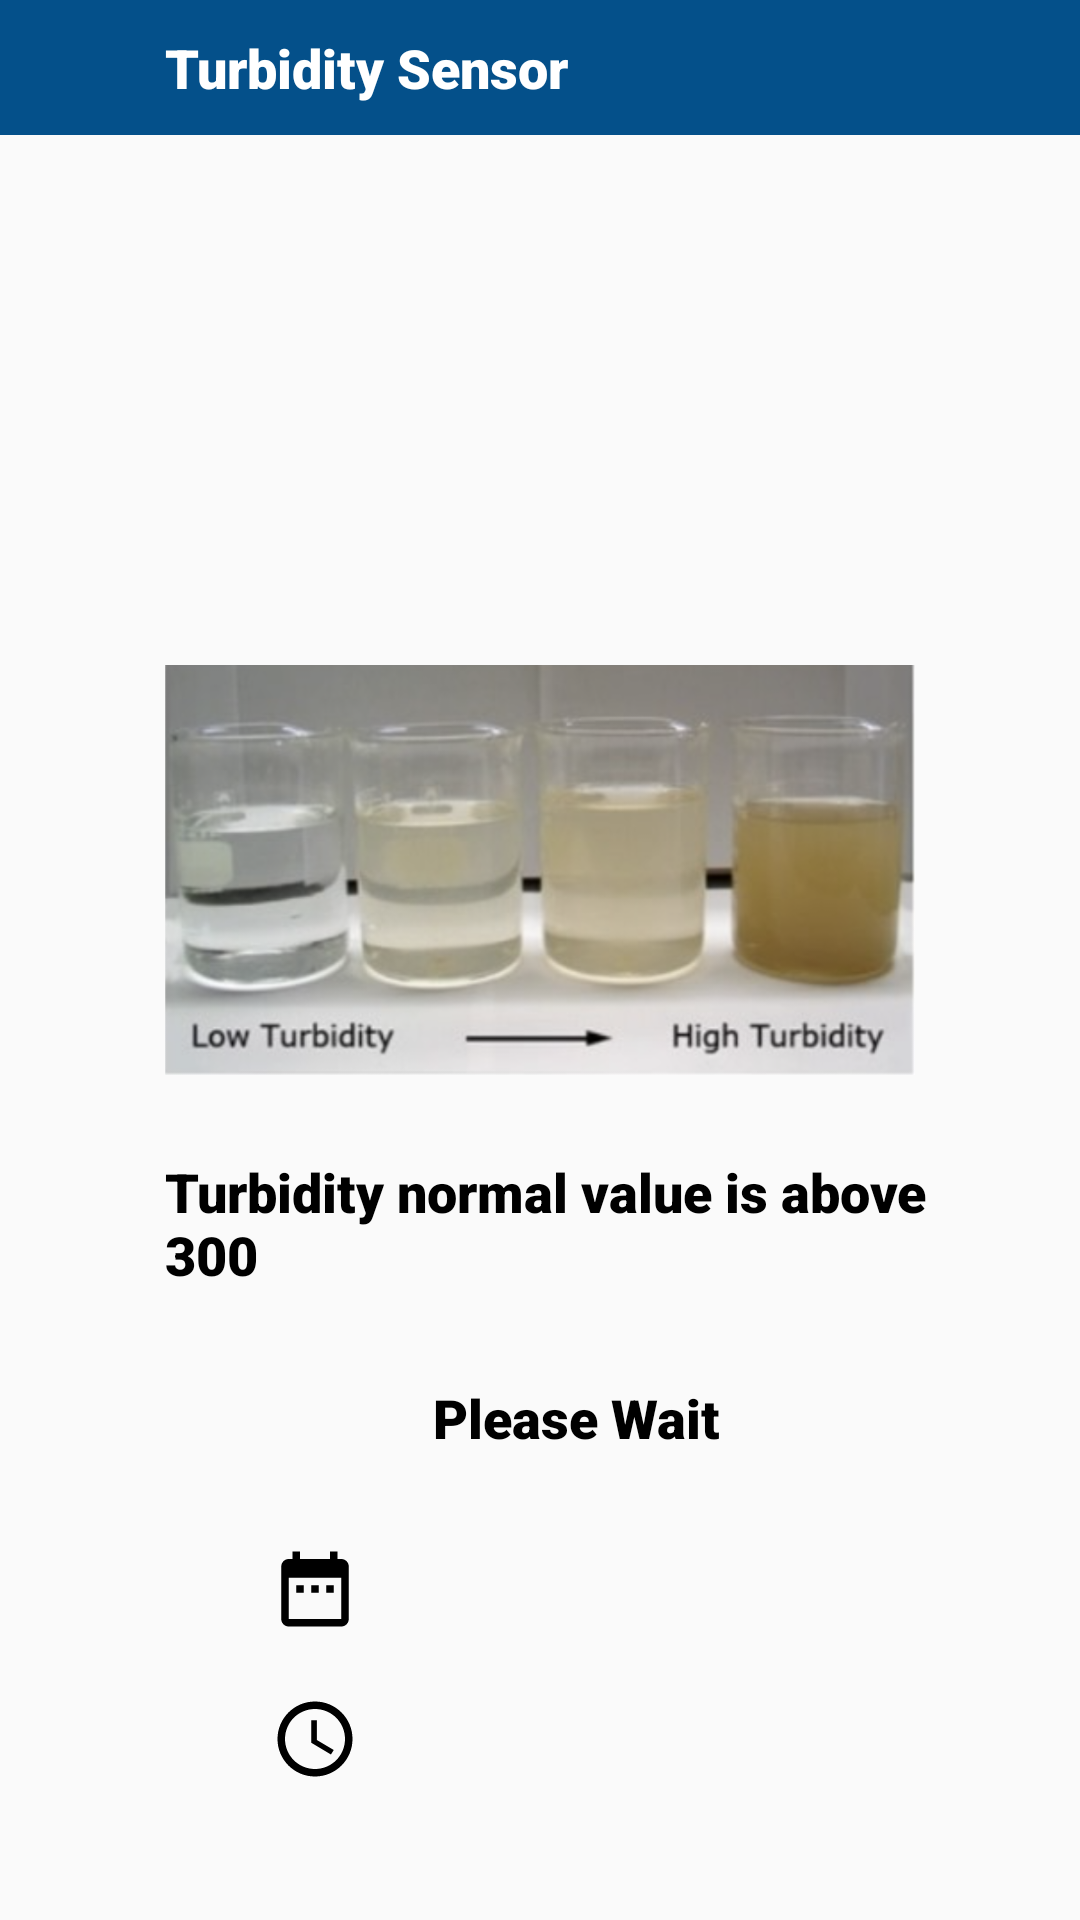

Point at icon controls on the screen. Image size 1080 x 1920, points as (x=x, y=y).
date: (x=315, y=1589)
time: (x=315, y=1739)
